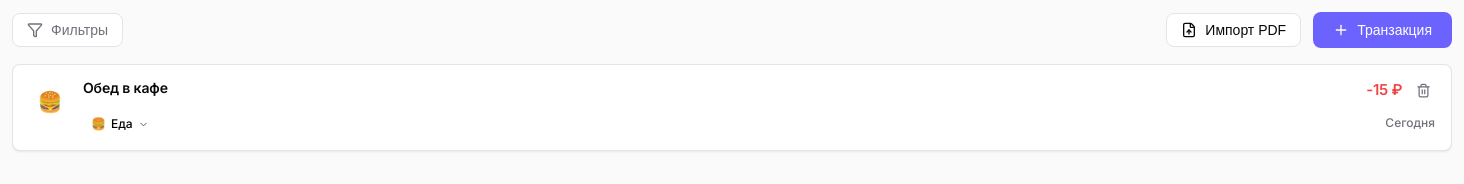
Scenario: Интеграционный тест: TransactionWidget › удаляет транзакцию и убирает ее из списка
The image size is (1464, 184).
Click the button named "Удалить транзакцию". click: (1424,90)
box: [1412,79,1435,102]
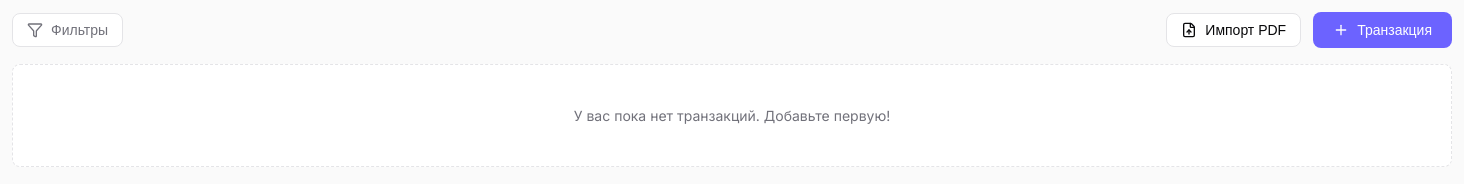
Expected: the text "Обед в кафе" is gone
